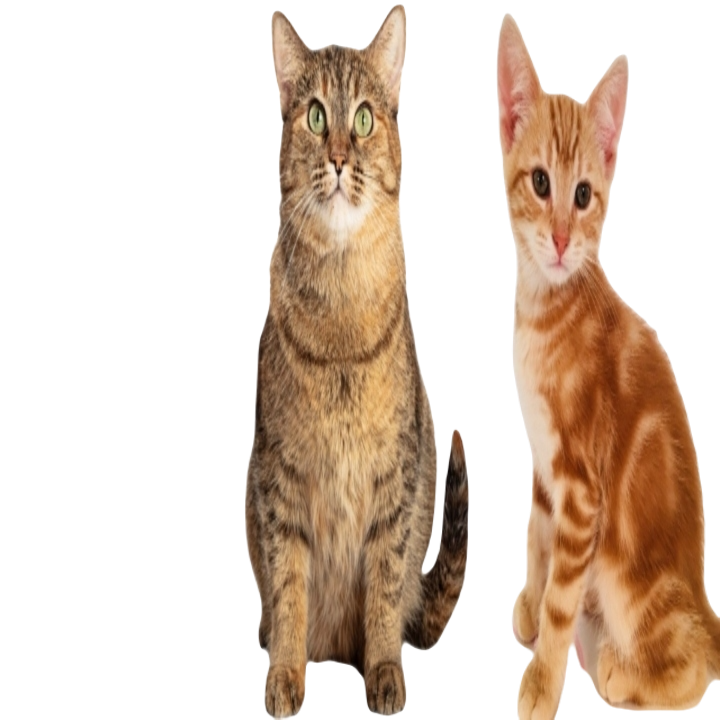Cat: (485, 9, 719, 719), (241, 3, 471, 719)
